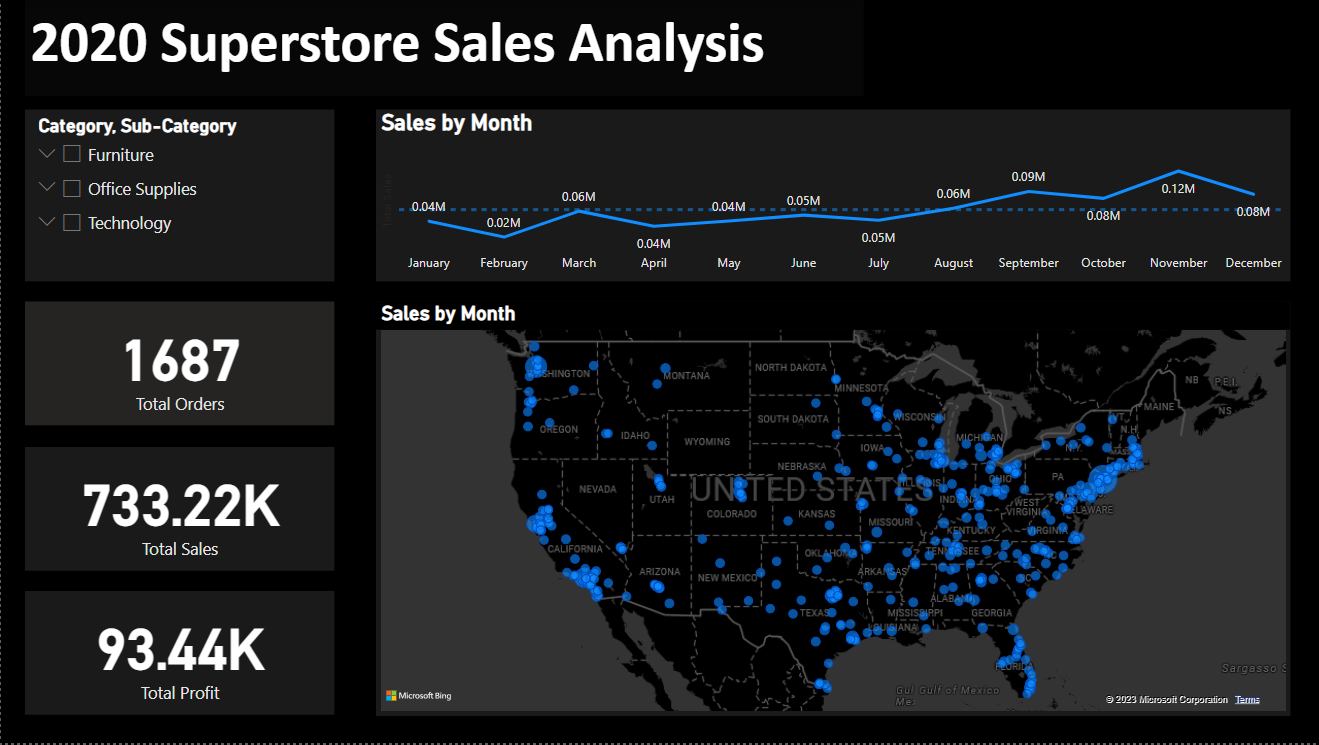

What the dashboard file says about the page in this screenshot:
{"tool":"powerbi","page":{"name":"Sales","canvas":[1280,720],"ordinal":0},"visuals":[{"type":"textbox","box":[23.3,0,813.3,93.3],"z":0},{"type":"lineChart","title":"Sales by Month","fields":{"Category":["Date.Month Name"],"Y":["Orders.Total Sales"]},"box":[363.3,106.7,886.7,166.7],"z":1000},{"type":"slicer","fields":{"Values":["Orders.Category","Orders.Sub-Category"]},"box":[23.3,106.7,300,166.7],"z":2000},{"type":"map","title":"Sales by Month","fields":{"Size":["Sum(Orders.Sales)"],"Y":["Orders.Latitude"],"X":["Orders.Longitude"]},"box":[363.3,291.7,886.7,401.7],"z":3000},{"type":"card","fields":{"Values":["Orders.Total Sales"]},"box":[23.3,433.3,300,120],"z":4000},{"type":"card","fields":{"Values":["Orders.Total Profit"]},"box":[23.3,573.3,300,120],"z":5000},{"type":"card","fields":{"Values":["Orders.Orders"]},"box":[23.3,291.7,300,120],"z":6000}]}

Visuals, with their boxes in screenshot pixels (x1, y1, x2, y2), scaled from the page's 1280x720 canvas onto the 1319x745 screenshot:
textbox: 24,0,862,97
"Sales by Month" lineChart: 374,110,1288,283
slicer - Orders.Category x Orders.Sub-Category: 24,110,333,283
"Sales by Month" map: 374,302,1288,717
card - Orders.Total Sales: 24,448,333,573
card - Orders.Total Profit: 24,593,333,717
card - Orders.Orders: 24,302,333,426
